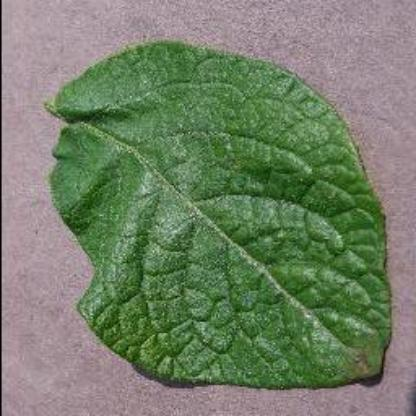Healthy-plant: (35, 31, 399, 397)
